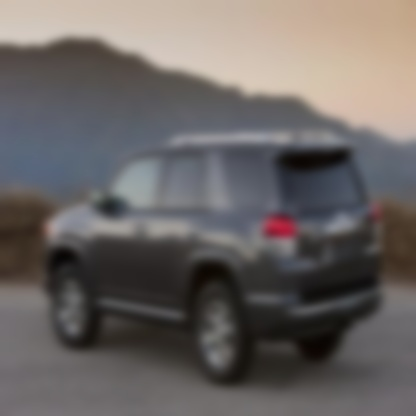Vehicle: (40, 128, 386, 386)
